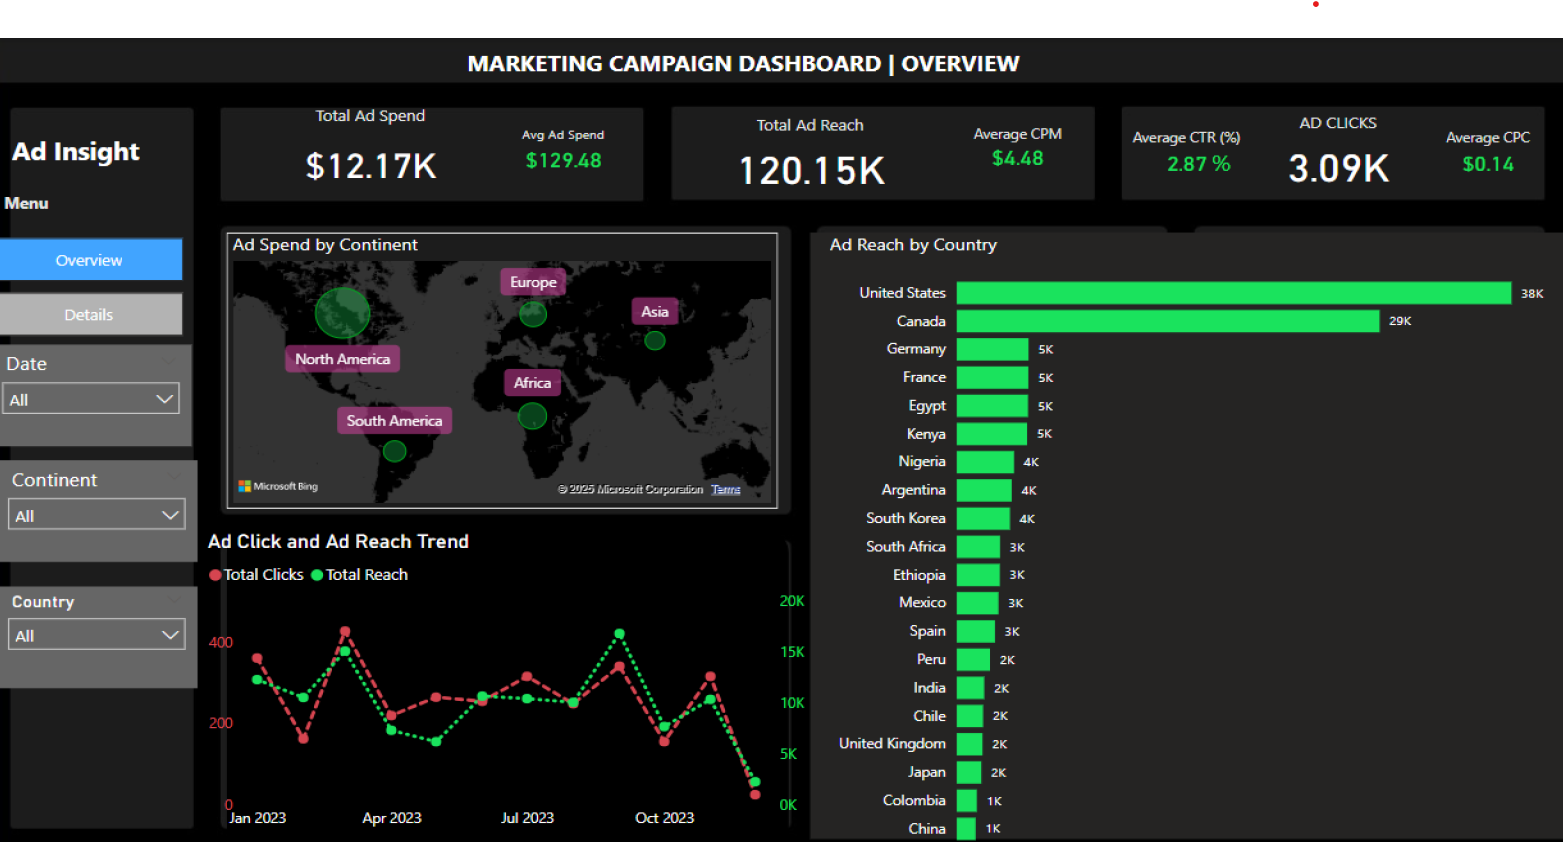

The page's visual inventory and layout, read from the dashboard file:
{"tool":"powerbi","page":{"name":"Overview","canvas":[1280,720],"ordinal":0},"visuals":[{"type":"shape","box":[0,0,1280.4,62],"z":0},{"type":"shape","box":[0,73.2,195.6,63.6],"z":1000},{"type":"shape","box":[208.4,74.8,345.2,60.4],"z":2000},{"type":"shape","box":[566.3,73.2,345.2,62],"z":3000},{"type":"shape","box":[923.7,73.2,356.3,62],"z":4000},{"type":"shape","box":[208.4,151.1,516.9,284.7],"z":5000},{"type":"shape","box":[208.4,448.6,516.9,272],"z":6000},{"type":"shape","box":[741.2,151.1,539.2,569.4],"z":7000},{"type":"shape","box":[0,151.1,195.6,569.4],"z":8000},{"type":"card","title":"Total Ad Spent","fields":{"Values":["Formulas.Total Amount Spent"]},"box":[227.5,73.2,171.8,62],"z":9000},{"type":"card","title":"Ads Clicks","fields":{"Values":["Formulas.Total Ad Clicks"]},"box":[1022.8,74.8,159.1,62],"z":10000},{"type":"card","title":"Total Ad Reach","fields":{"Values":["Formulas.Total Ad Reach"]},"box":[617.2,73.2,160.7,62],"z":11000},{"type":"card","title":"Avg Ad Spent","fields":{"Values":["Formulas.Avg Ad Spend"]},"box":[439,73.2,114.5,62],"z":12000},{"type":"card","title":"Avg CPM","fields":{"Values":["Formulas.Avg CPM"]},"box":[793.7,73.2,117.7,62],"z":13000},{"type":"card","title":"Avg CTR","fields":{"Values":["Formulas.Avg CTR"]},"box":[924.1,74.8,117.7,62],"z":14000},{"type":"card","title":"Avg CPC","fields":{"Values":["Formulas.Avg CPC"]},"box":[1162.7,74.8,117.7,62],"z":15000},{"type":"clusteredBarChart","fields":{"Category":["Dataset.Country"],"Y":["Formulas.Total Ad Reach"]},"box":[741.2,151.1,539.2,569.4],"z":16000},{"type":"map","fields":{"Category":["Dataset.Continent"],"Size":["Formulas.Total Ad Spent"]},"box":[208.4,151.1,516.9,284.7],"z":17000},{"type":"lineChart","fields":{"Y":["Formulas.Total Ad Clicks"],"Y2":["Formulas.Total Ad Reach"],"Category":["Dataset.Date.Variation.Date Hierarchy.Year","Dataset.Date.Variation.Date Hierarchy.Month"]},"box":[208.4,448.6,489.9,272],"z":18000},{"type":"textbox","box":[381.7,8,555.1,47.7],"z":19000},{"type":"textbox","box":[0,74.8,195.6,49.3],"z":20000},{"type":"slicer","fields":{"Values":["Dataset.Month"]},"box":[3.2,279.9,192.5,93.8],"z":21000},{"type":"slicer","fields":{"Values":["Dataset.Continent"]},"box":[3.2,431.1,195.6,93.8],"z":22000},{"type":"slicer","fields":{"Values":["Dataset.Country"]},"box":[4.8,571,195.6,93.8],"z":23000},{"type":"pageNavigator","box":[4.8,160.7,190.9,98.6],"z":24000}]}

Visuals, with their boxes on the page's 1280x720 design canvas (x1, y1, x2, y2). These are canvas units, not pixel positions in the 1563x842 screenshot, which may show the page scaled, cropped or inside an application window:
shape: Rect(0, 0, 1280, 62)
shape: Rect(0, 73, 196, 137)
shape: Rect(208, 75, 554, 135)
shape: Rect(566, 73, 912, 135)
shape: Rect(924, 73, 1280, 135)
shape: Rect(208, 151, 725, 436)
shape: Rect(208, 449, 725, 721)
shape: Rect(741, 151, 1280, 720)
shape: Rect(0, 151, 196, 720)
"Total Ad Spent" card: Rect(228, 73, 399, 135)
"Ads Clicks" card: Rect(1023, 75, 1182, 137)
"Total Ad Reach" card: Rect(617, 73, 778, 135)
"Avg Ad Spent" card: Rect(439, 73, 554, 135)
"Avg CPM" card: Rect(794, 73, 911, 135)
"Avg CTR" card: Rect(924, 75, 1042, 137)
"Avg CPC" card: Rect(1163, 75, 1280, 137)
clusteredBarChart - Dataset.Country x Formulas.Total Ad Reach: Rect(741, 151, 1280, 720)
map - Dataset.Continent x Formulas.Total Ad Spent: Rect(208, 151, 725, 436)
lineChart - Formulas.Total Ad Clicks x Formulas.Total Ad Reach: Rect(208, 449, 698, 721)
textbox: Rect(382, 8, 937, 56)
textbox: Rect(0, 75, 196, 124)
slicer - Dataset.Month: Rect(3, 280, 196, 374)
slicer - Dataset.Continent: Rect(3, 431, 199, 525)
slicer - Dataset.Country: Rect(5, 571, 200, 665)
pageNavigator: Rect(5, 161, 196, 259)
